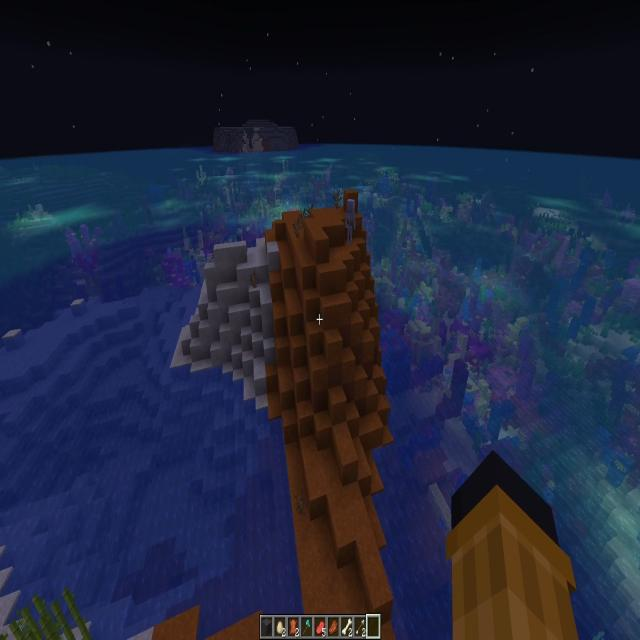Skeleton: (345, 200, 356, 243)
